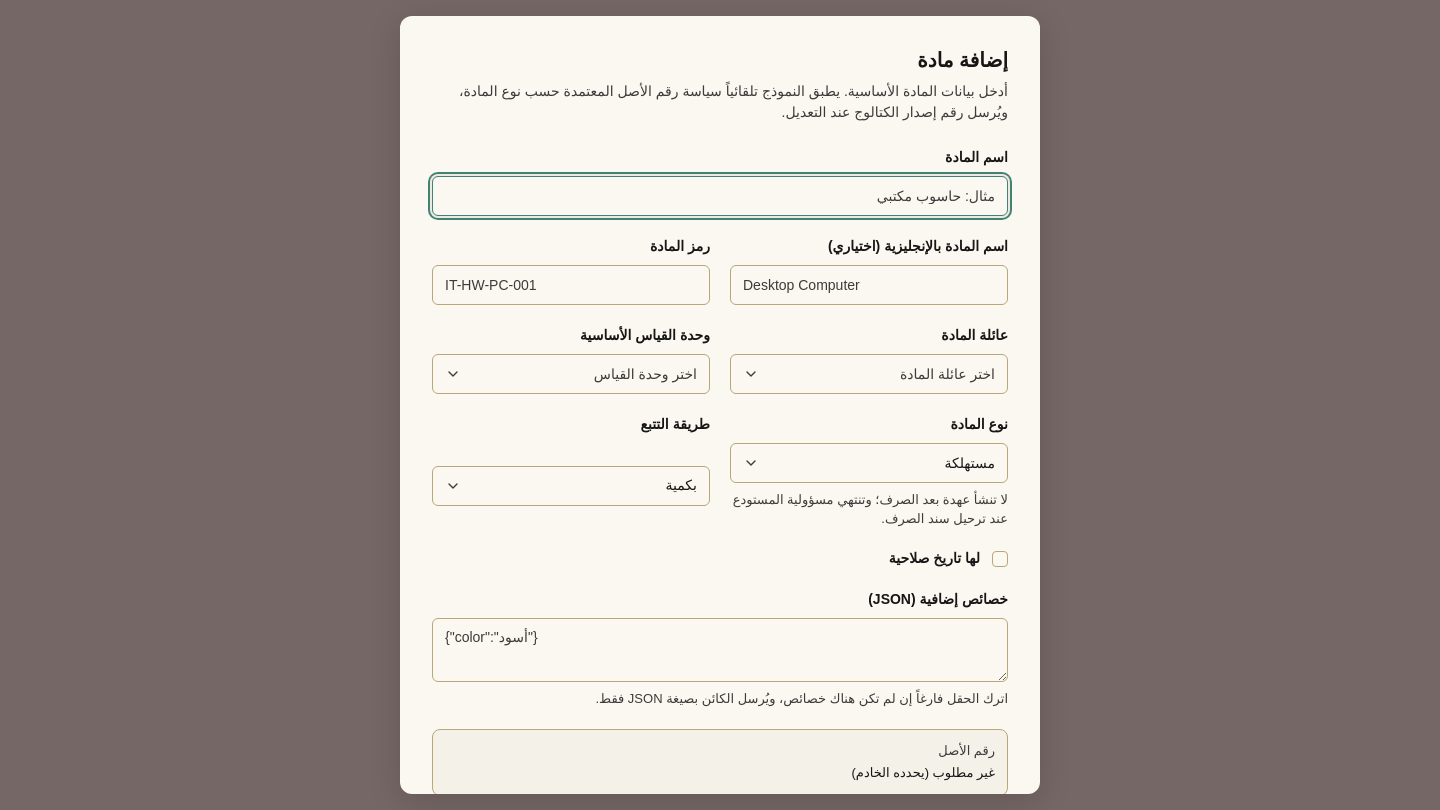
MaterialFormDialog › confirms a type change before applying the derived asset tracking policy
Click the dropdown named "نوع المادة".
click(970, 462)  # box x1=730 y1=443 x2=1008 y2=483
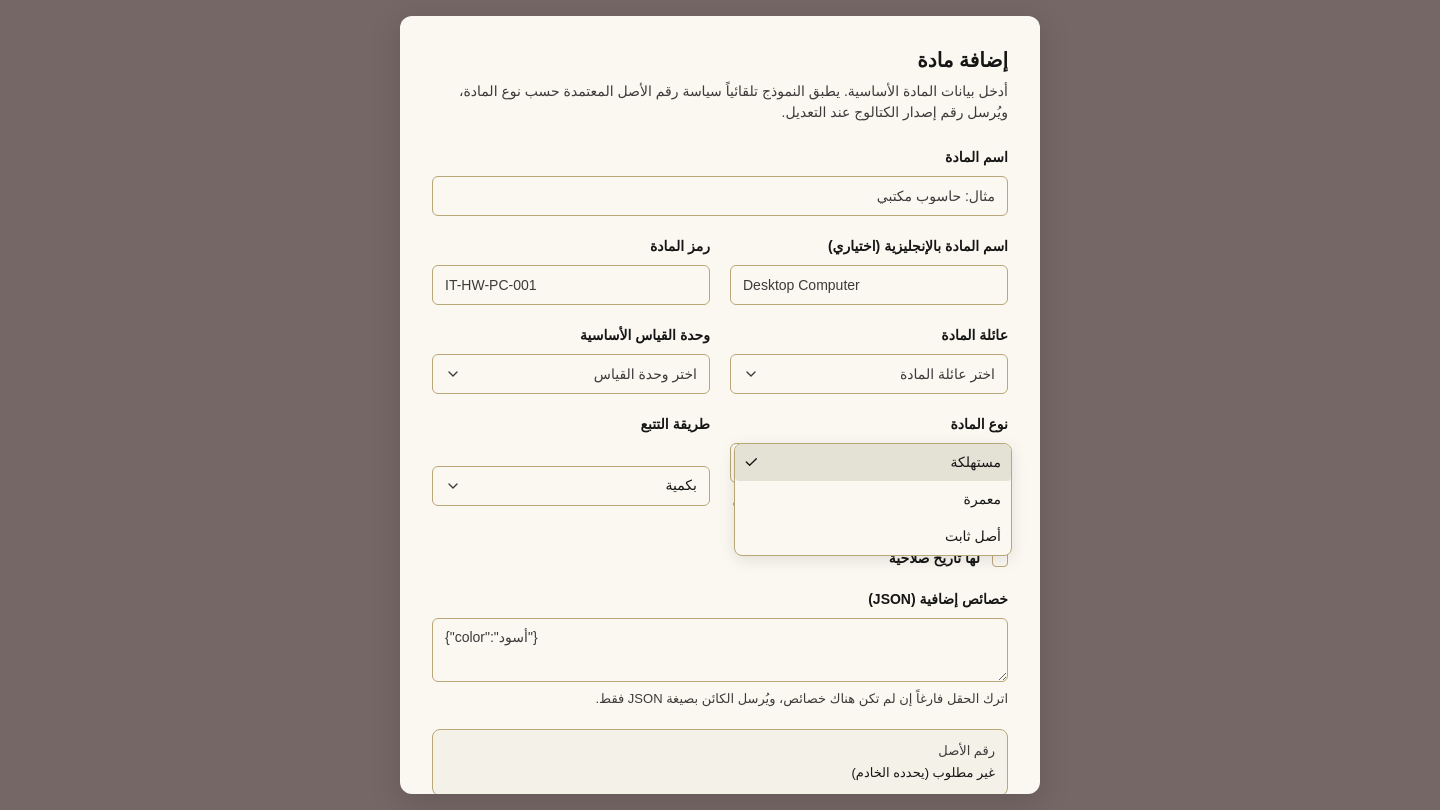
Click the option "أصل ثابت".
click(973, 536)  # box x1=945 y1=528 x2=1001 y2=544
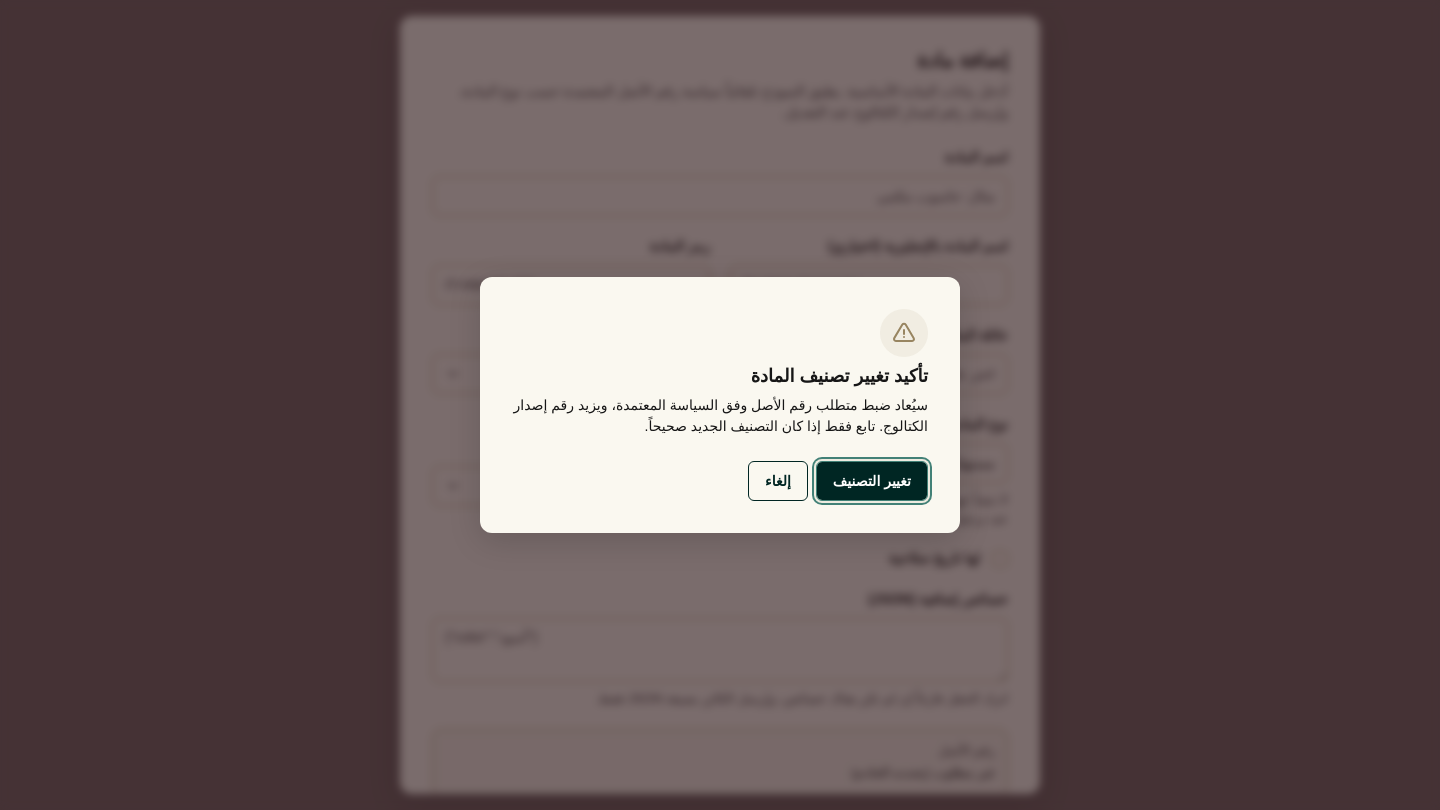
Check: the text "سيُعاد ضبط متطلب رقم الأصل" is shown, box x1=514 y1=397 x2=928 y2=434
Click the button "تغيير التصنيف".
click(872, 481)  # box x1=816 y1=461 x2=928 y2=501
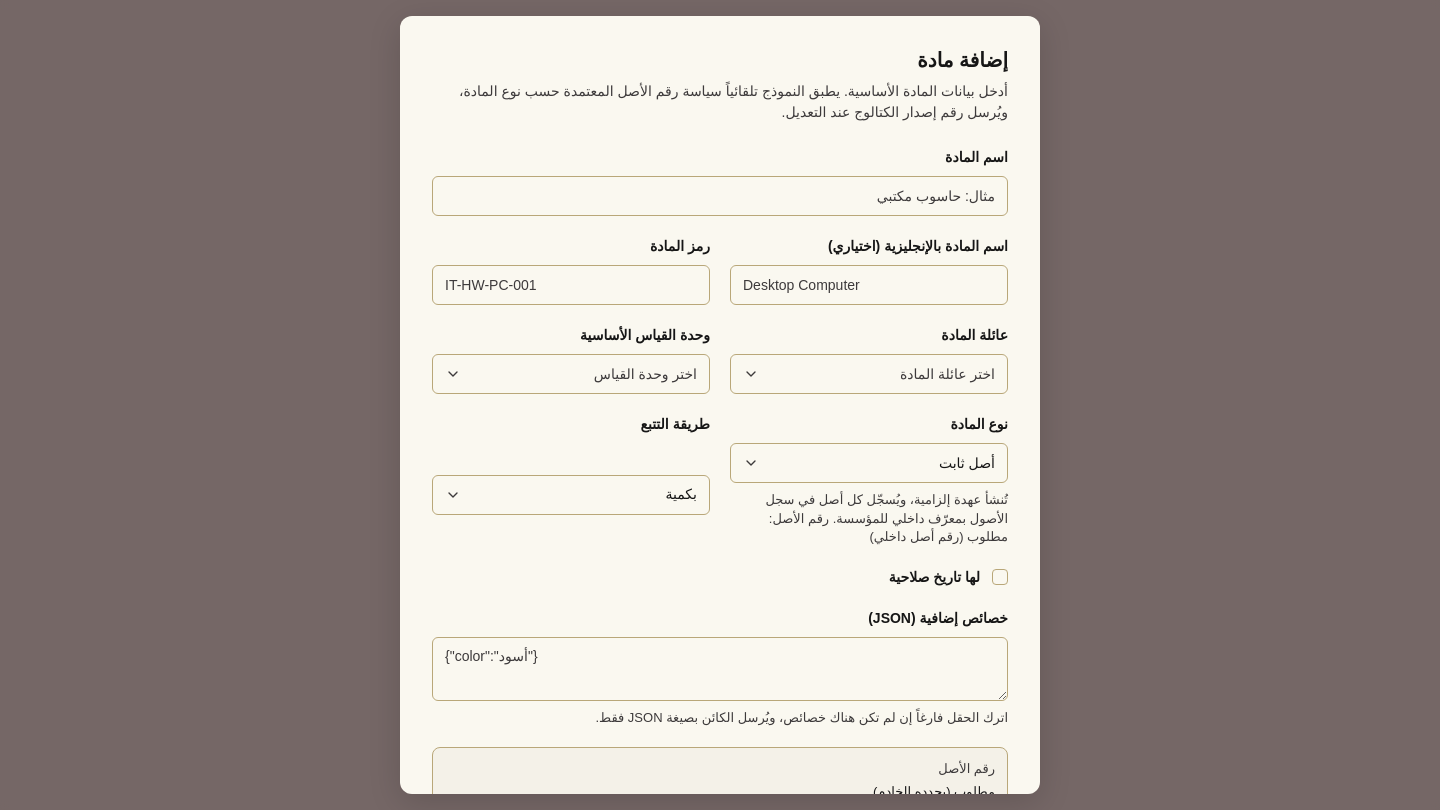
Check: the dropdown named "نوع المادة" does not show "Asset", box x1=730 y1=443 x2=1008 y2=483
Check: the dropdown named "نوع المادة" shows "أصل ثابت", box x1=730 y1=443 x2=1008 y2=483
Check: the text "تُنشأ عهدة إلزامية، ويُسجّل كل أصل في سجل الأصول بمعرّف داخلي للمؤسسة. رقم الأصل: مطلوب (رقم أصل داخلي)" is shown, box x1=730 y1=491 x2=1008 y2=547
